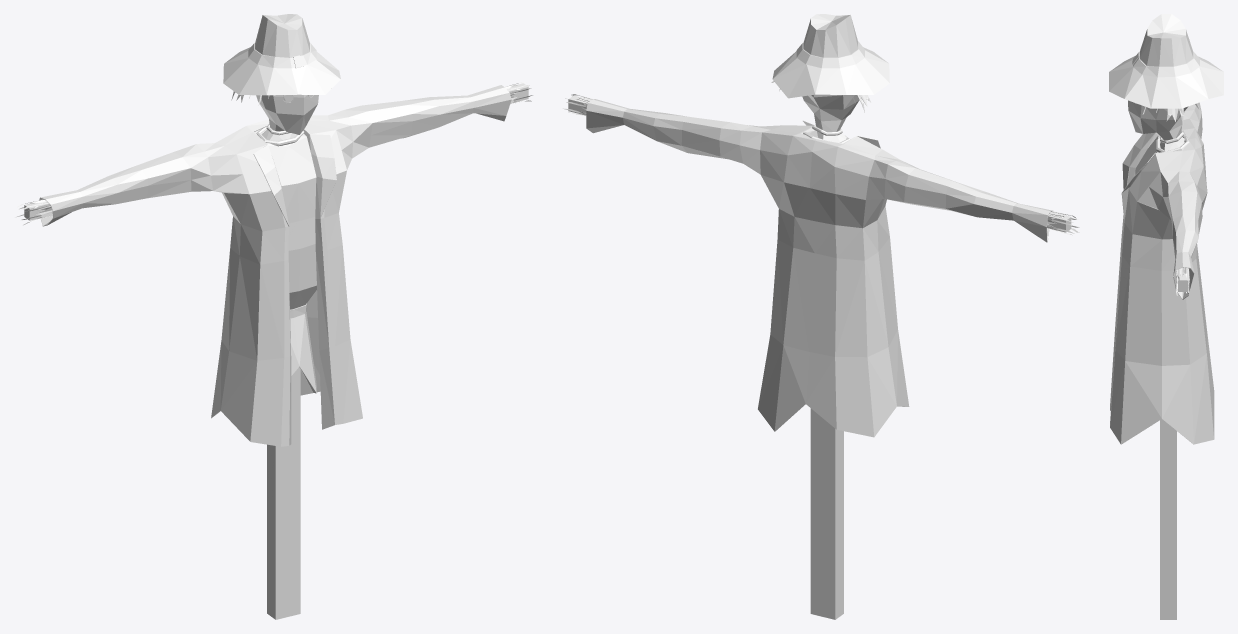
Rendered from Prop_Scarecrow_01.glb.
3 renders of one model, left to right at view 1: azimuth 30°, elevation 25°; view 2: azimuth 150°, elevation 25°; view 3: azimuth 270°, elevation 25°, orthographic. The views are drawn at different scales.
Visible parts, largest first — view 1: Prop_Scarecrow_01; view 2: Prop_Scarecrow_01; view 3: Prop_Scarecrow_01.
Part boxes in pixels (x1=…): Prop_Scarecrow_01: x1=15, y1=14, x2=532, y2=619; Prop_Scarecrow_01: x1=563, y1=14, x2=1079, y2=619; Prop_Scarecrow_01: x1=1109, y1=14, x2=1223, y2=619.
Size of the model in its own units: 1.98 by 2.22 by 0.3913.
Materials: 1 (1 with a texture image).
